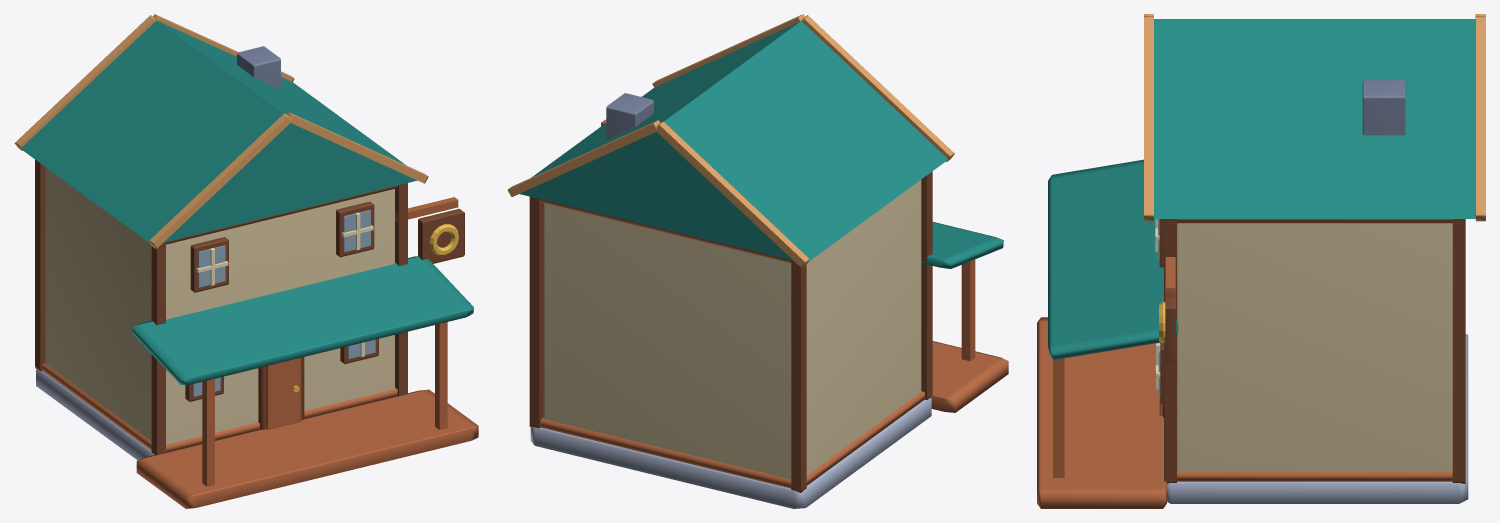
The model's file is harbor_tavern.glb.
The picture shows the model from 3 angles, left to right: view 1: azimuth 30°, elevation 25°; view 2: azimuth 150°, elevation 25°; view 3: azimuth 270°, elevation 25°; orthographic projection. The views are drawn at different scales.
Visible parts, largest first — view 1: Pitched roof.004, Plaster walls.004, Porch canopy.002, Porch deck.002, Corner post.016, Timber band.008, Corner post.017, Stone footing.004, Door planks.004, Roof trim.016, Corner post.018, Tavern sign (+14 smaller); view 2: Plaster walls.004, Pitched roof.004, Stone footing.004, Timber band.008, Porch deck.002, Corner post.017, Corner post.019, Corner post.016, Roof trim.018, Porch canopy.002, Roof trim.016, Roof trim.019 (+4 smaller); view 3: Plaster walls.004, Pitched roof.004, Porch canopy.002, Porch deck.002, Stone footing.004, Corner post.019, Timber band.008, Chimney.004, Corner post.018, Roof trim.019, Roof trim.017, Porch post.005 (+2 smaller).
Part boxes in pixels (left/top/right/bottom): Pitched roof.004: left=20, top=20, right=416, bottom=243; Plaster walls.004: left=45, top=167, right=394, bottom=444; Porch canopy.002: left=132, top=256, right=473, bottom=384; Porch deck.002: left=136, top=389, right=478, bottom=508; Corner post.016: left=151, top=242, right=165, bottom=455; Timber band.008: left=42, top=363, right=397, bottom=452; Corner post.017: left=35, top=159, right=45, bottom=371; Stone footing.004: left=36, top=369, right=153, bottom=460; Door planks.004: left=266, top=358, right=300, bottom=429; Roof trim.016: left=148, top=113, right=290, bottom=248; Corner post.018: left=395, top=183, right=407, bottom=396; Tavern sign: left=418, top=208, right=464, bottom=263; Plaster walls.004: left=543, top=180, right=921, bottom=479; Pitched roof.004: left=520, top=21, right=948, bottom=261; Stone footing.004: left=530, top=398, right=931, bottom=508; Timber band.008: left=540, top=391, right=924, bottom=488; Porch deck.002: left=931, top=341, right=1008, bottom=412; Corner post.017: left=791, top=260, right=806, bottom=492; Corner post.019: left=529, top=196, right=543, bottom=428; Corner post.016: left=921, top=171, right=932, bottom=399; Roof trim.018: left=656, top=121, right=809, bottom=267; Porch canopy.002: left=921, top=222, right=1003, bottom=268; Roof trim.016: left=801, top=15, right=954, bottom=161; Roof trim.019: left=507, top=120, right=660, bottom=197; Plaster walls.004: left=1177, top=223, right=1452, bottom=471; Pitched roof.004: left=1154, top=19, right=1475, bottom=218; Porch canopy.002: left=1048, top=159, right=1177, bottom=359; Porch deck.002: left=1037, top=317, right=1166, bottom=508; Stone footing.004: left=1167, top=334, right=1468, bottom=503; Corner post.019: left=1452, top=219, right=1465, bottom=483; Timber band.008: left=1177, top=470, right=1452, bottom=481; Chimney.004: left=1362, top=80, right=1405, bottom=135; Corner post.018: left=1164, top=219, right=1176, bottom=483; Roof trim.019: left=1475, top=16, right=1485, bottom=221; Roof trim.017: left=1144, top=16, right=1153, bottom=221; Porch post.005: left=1053, top=358, right=1064, bottom=477.
Bounding box in the file's own units: 6.53 × 6.31 × 6.22.
